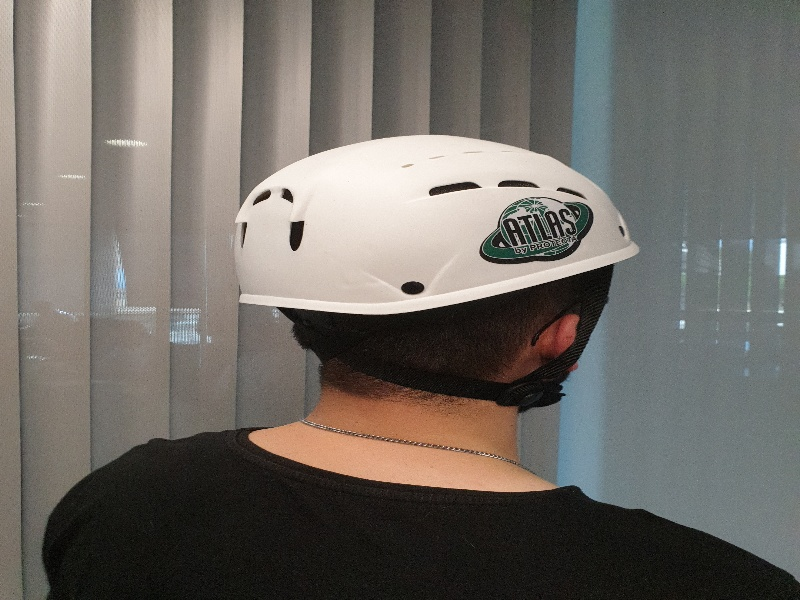Baret: (229, 127, 643, 294)
